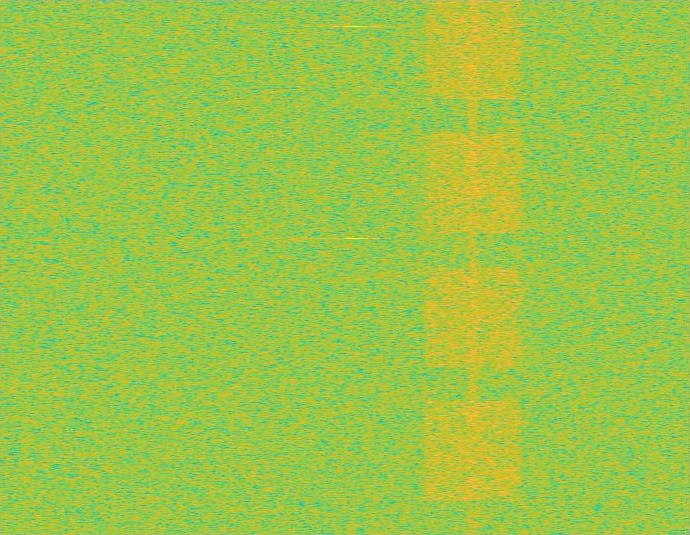5G: (422, 0, 525, 534)
DSSS: (466, 0, 480, 534)
Radar: (348, 0, 362, 534)
